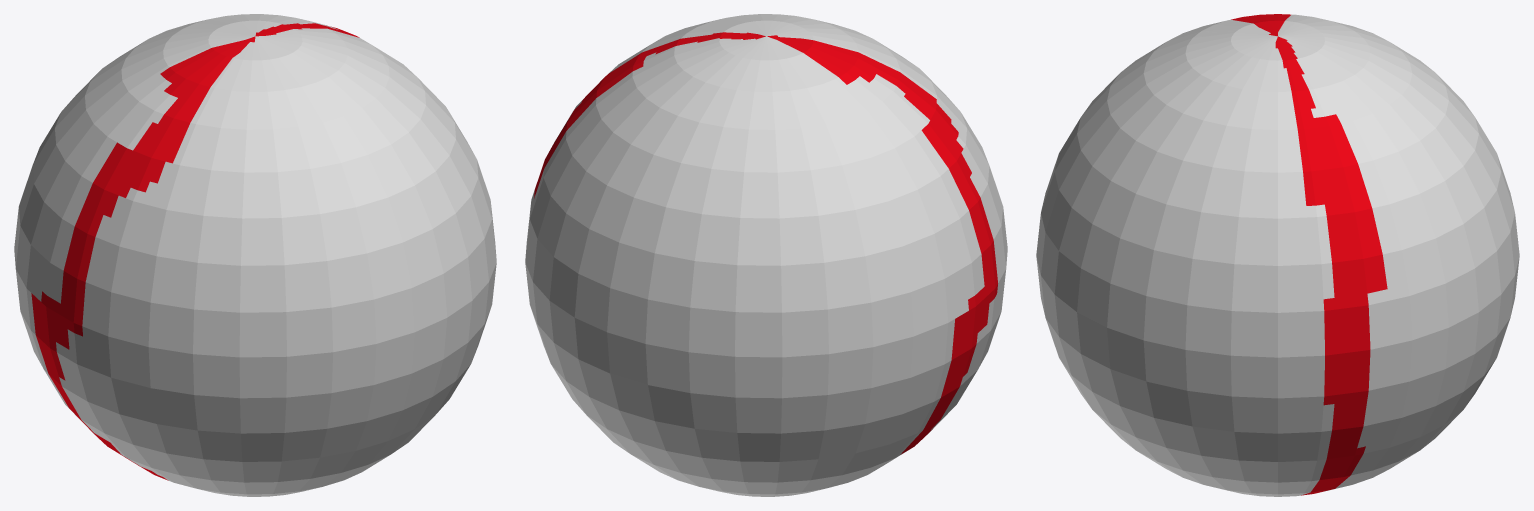
The model's file is baseball.fbx.
3 views of the same model, side by side, from view 1: azimuth 30°, elevation 25°; view 2: azimuth 150°, elevation 25°; view 3: azimuth 270°, elevation 25° (orthographic).
Visible parts, largest first — view 1: Sphere; view 2: Sphere; view 3: Sphere.
Part boxes in pixels (x1=…): Sphere: x1=14, y1=14, x2=496, y2=496; Sphere: x1=525, y1=14, x2=1007, y2=496; Sphere: x1=1036, y1=14, x2=1519, y2=496.
Bounding box in the file's own units: 200 × 200 × 200.
